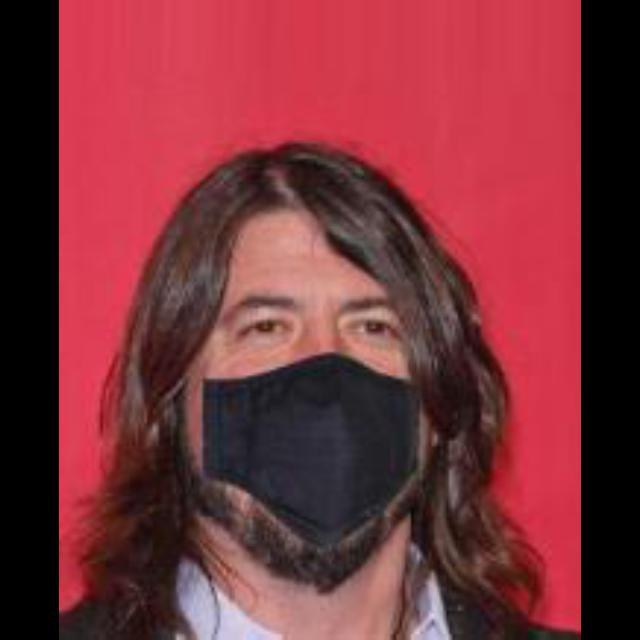suspicion: (178, 138, 500, 578)
